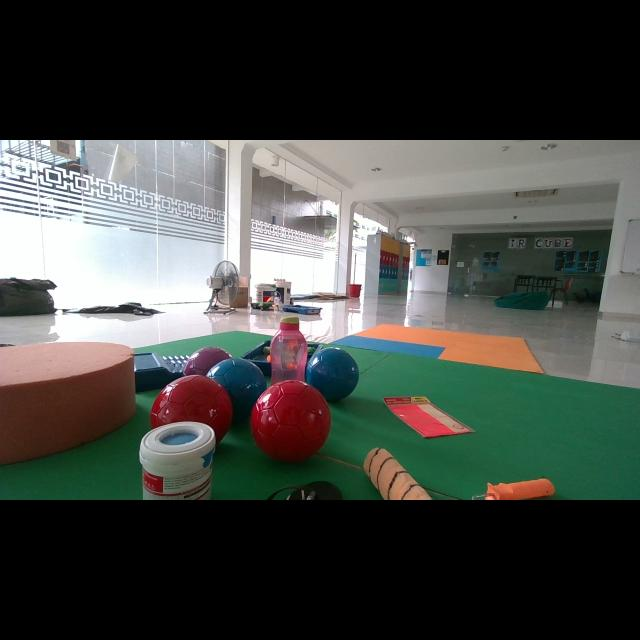B: (208, 358, 266, 419), (306, 348, 359, 401)
P: (182, 346, 232, 376)
R: (251, 380, 331, 462), (151, 375, 232, 443)
